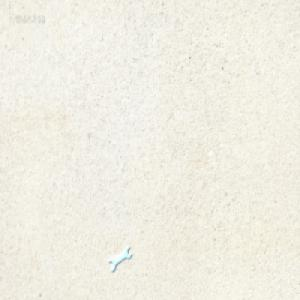Wrench: (108, 242, 131, 270)
